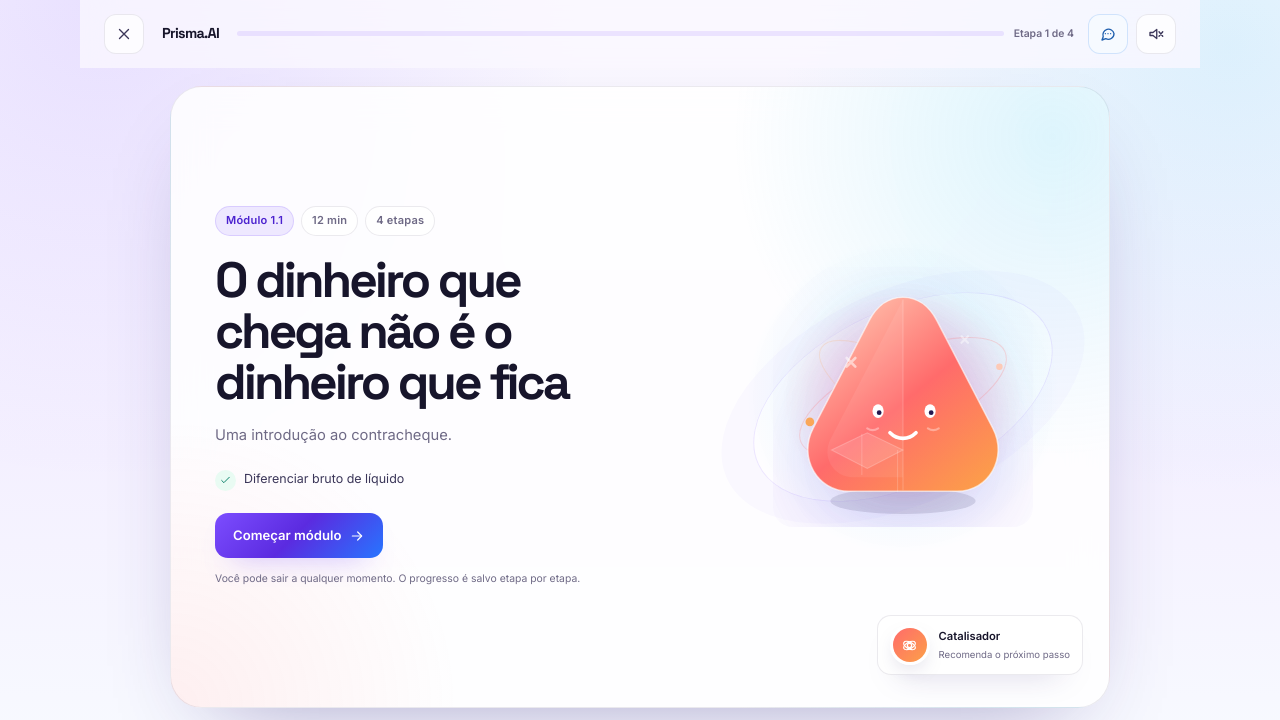
Test: LessonPlayerPage › starts the module and advances to the first reading screen
Expected: the heading "O dinheiro que chega não é o dinheiro que fica" is shown, [215,248,568,413]
Step 1. Click the button "Começar módulo" → (299, 536), box [215,513,383,558]
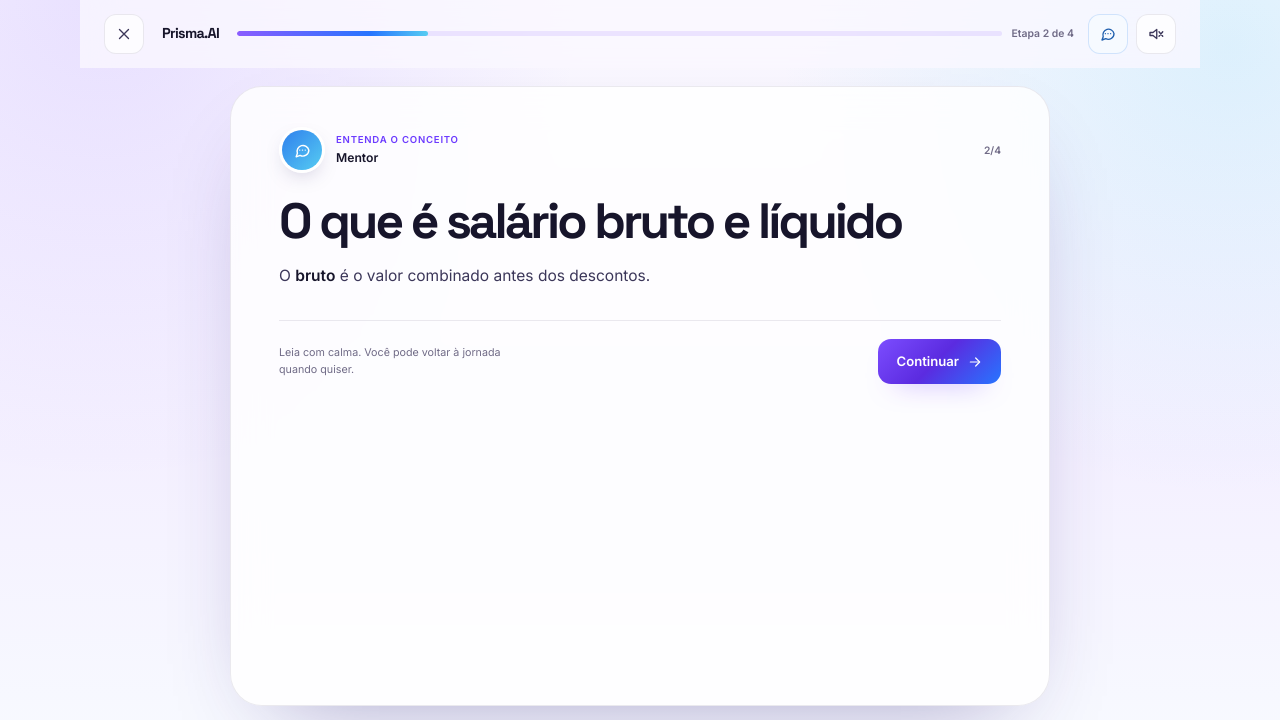
Expected: the heading "O que é salário bruto e líquido" is shown, [279,195,1001,246]
